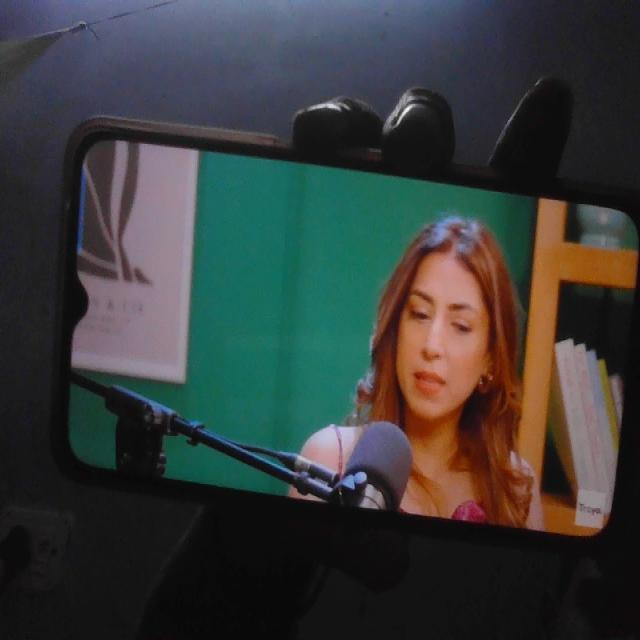fake: (387, 219, 496, 424)
